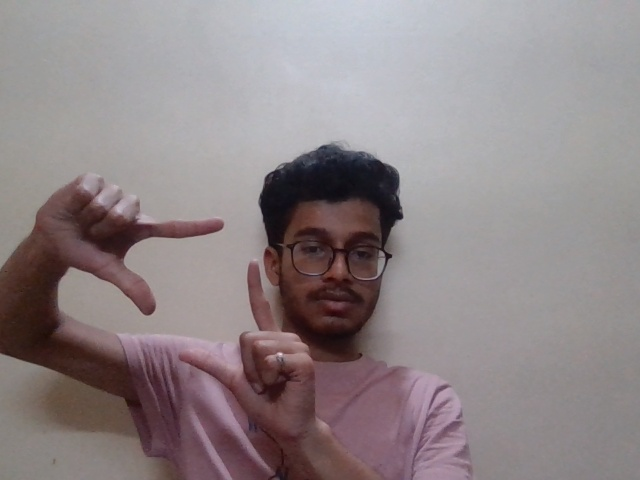video: (23, 167, 311, 421)
